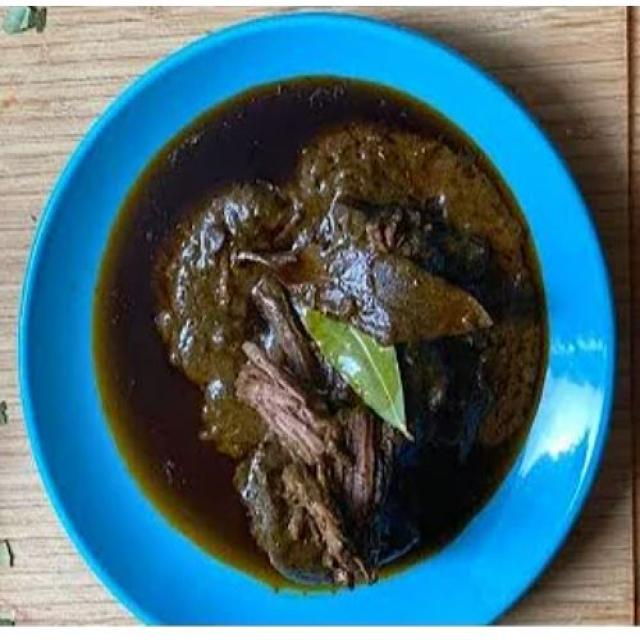Melloukhia: (33, 59, 539, 627)
